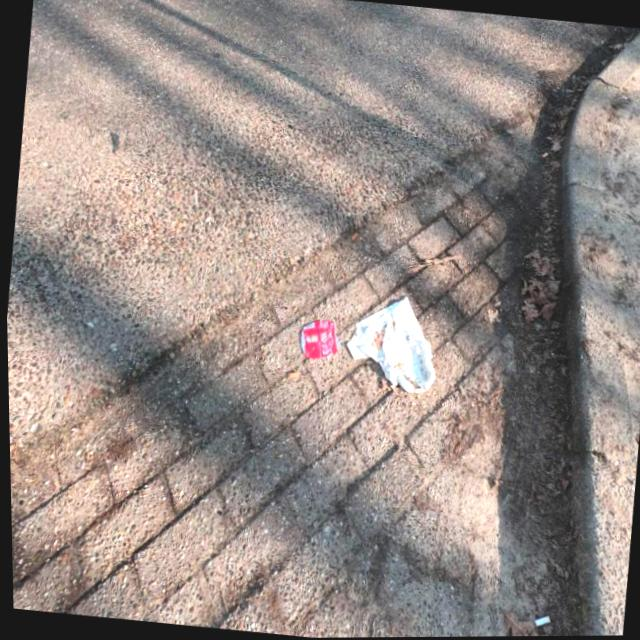Can-Metal: (290, 313, 340, 365)
